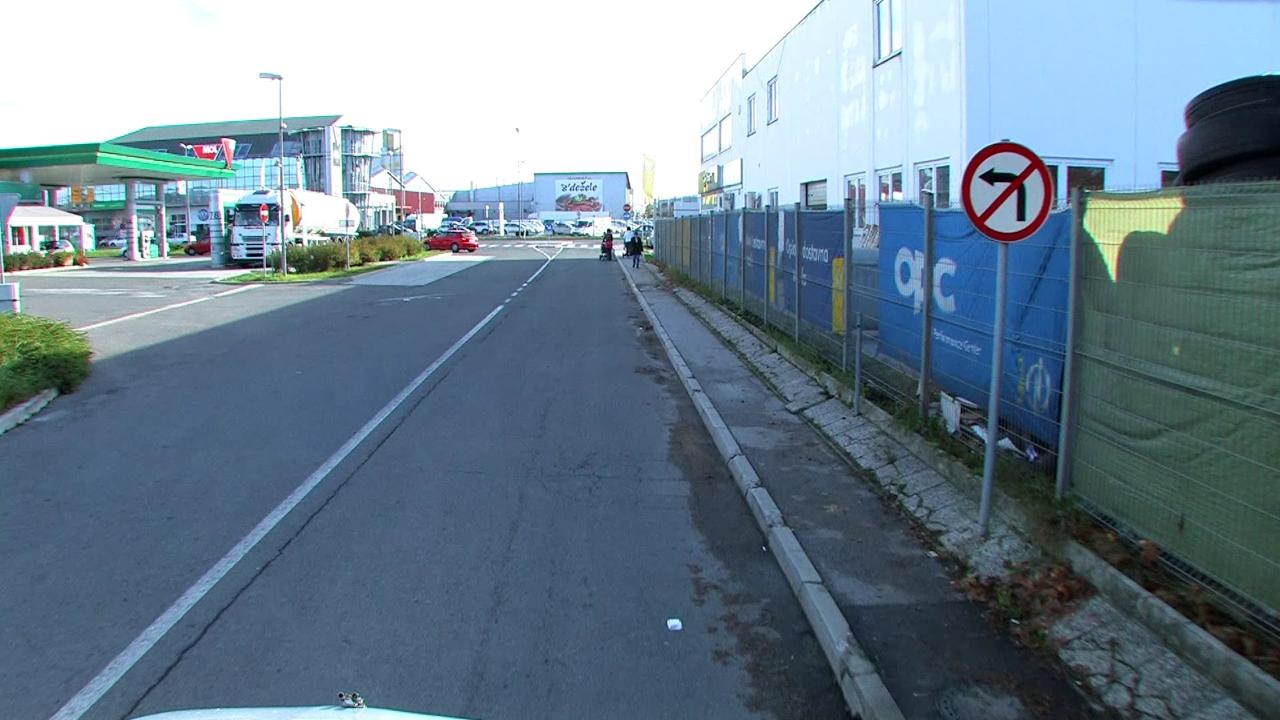Round: (960, 139, 1056, 244)
